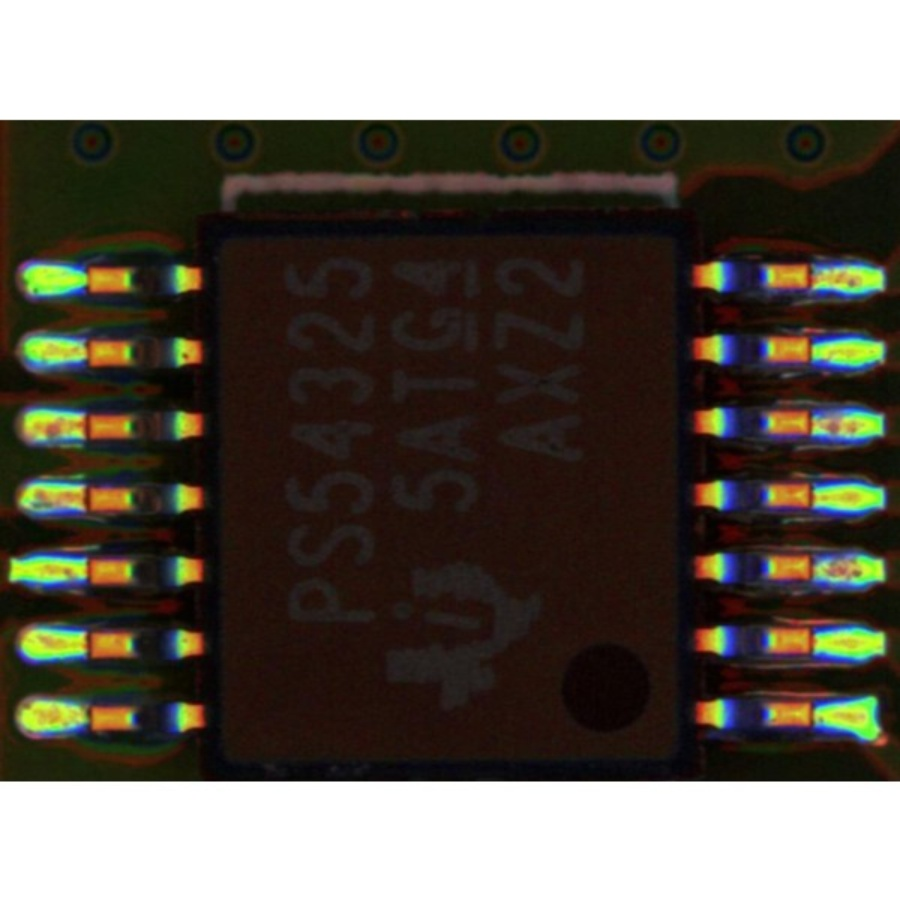Bad_podu: (64, 419, 101, 438), (796, 270, 832, 287), (63, 491, 101, 507)
